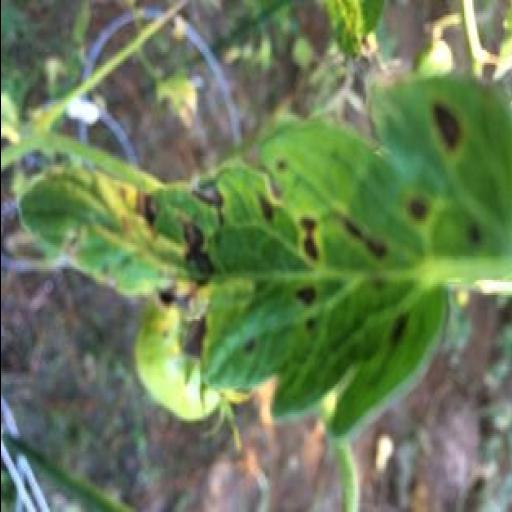disease_tomato: (20, 65, 510, 447)
